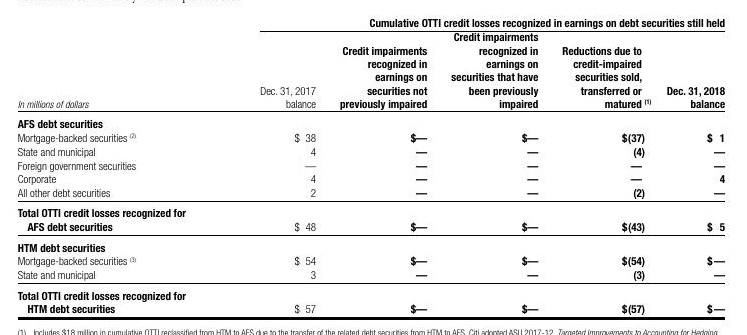table: (0, 0, 747, 335)
